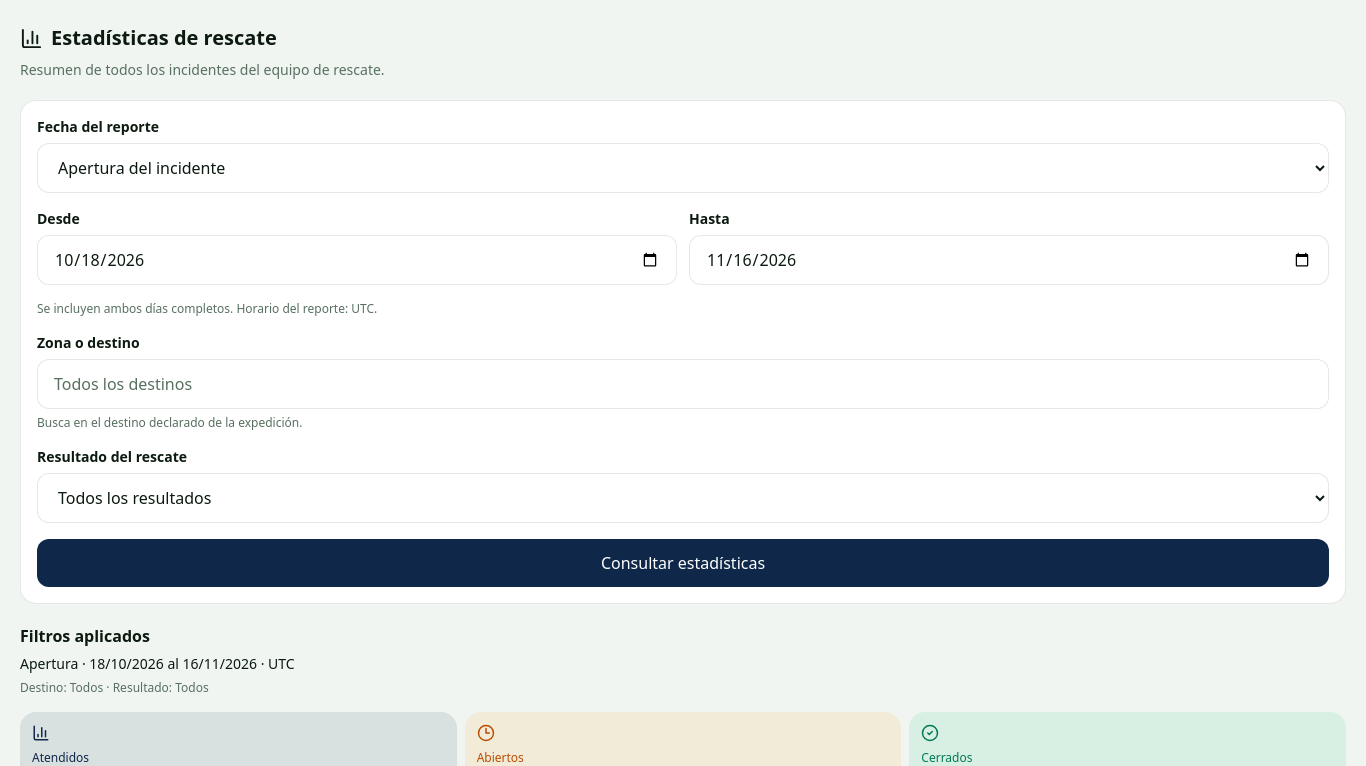
Test: HU-47: pantalla de estadísticas › una respuesta tardía no reemplaza los filtros ni conteos de una consulta más reciente
Step 1. Type "Lenta" into the search field labelled "Zona o destino" → [683, 384], box [37,359,1329,409]
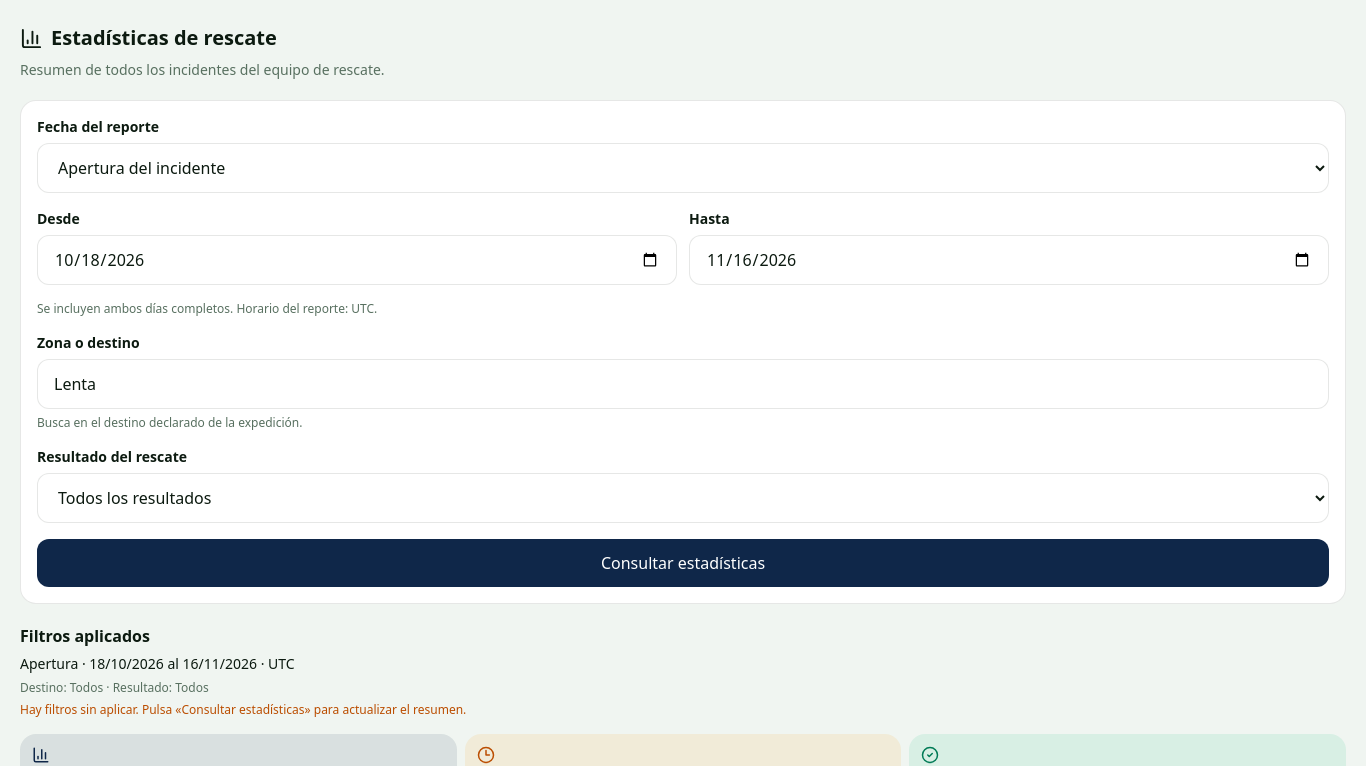
Step 2. Submit the form
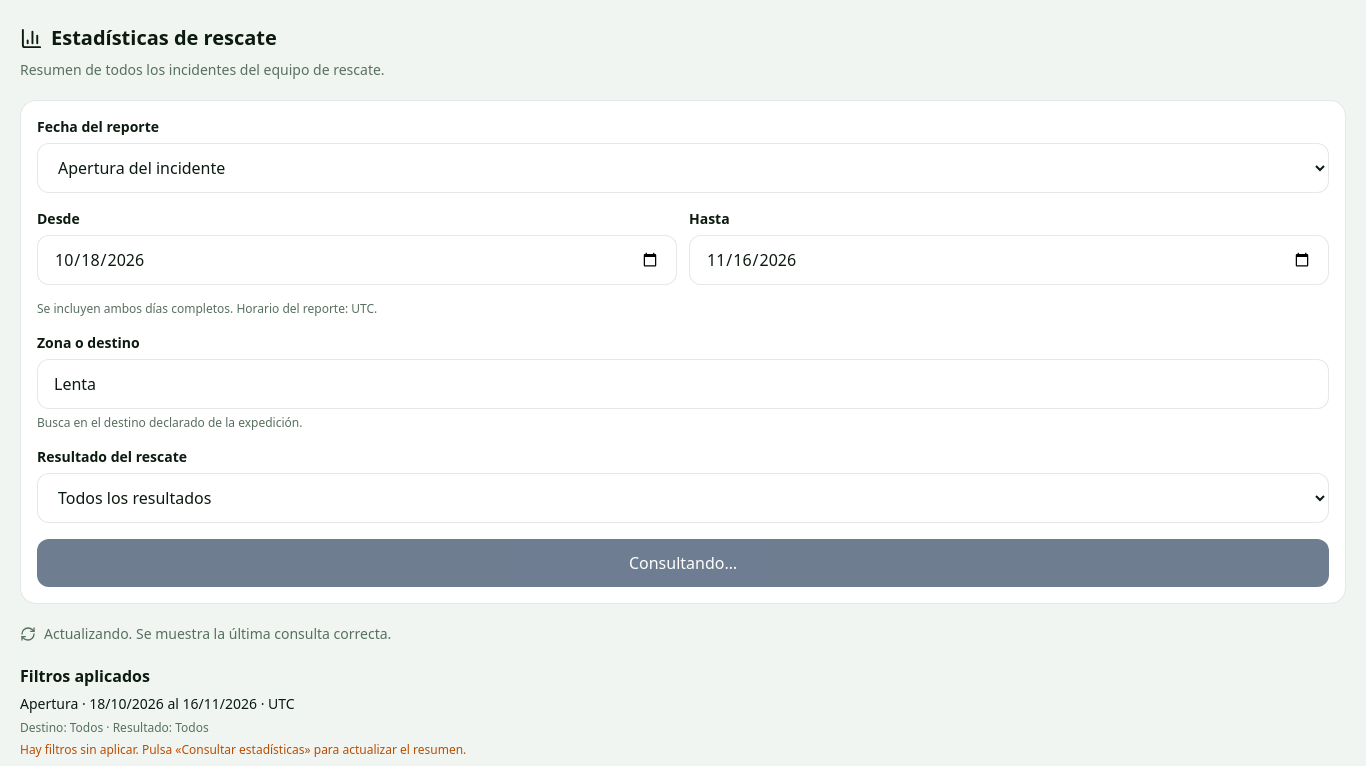
Step 3. Replace the text in the search field labelled "Zona o destino" with "Reciente" → [683, 384], box [37,359,1329,409]
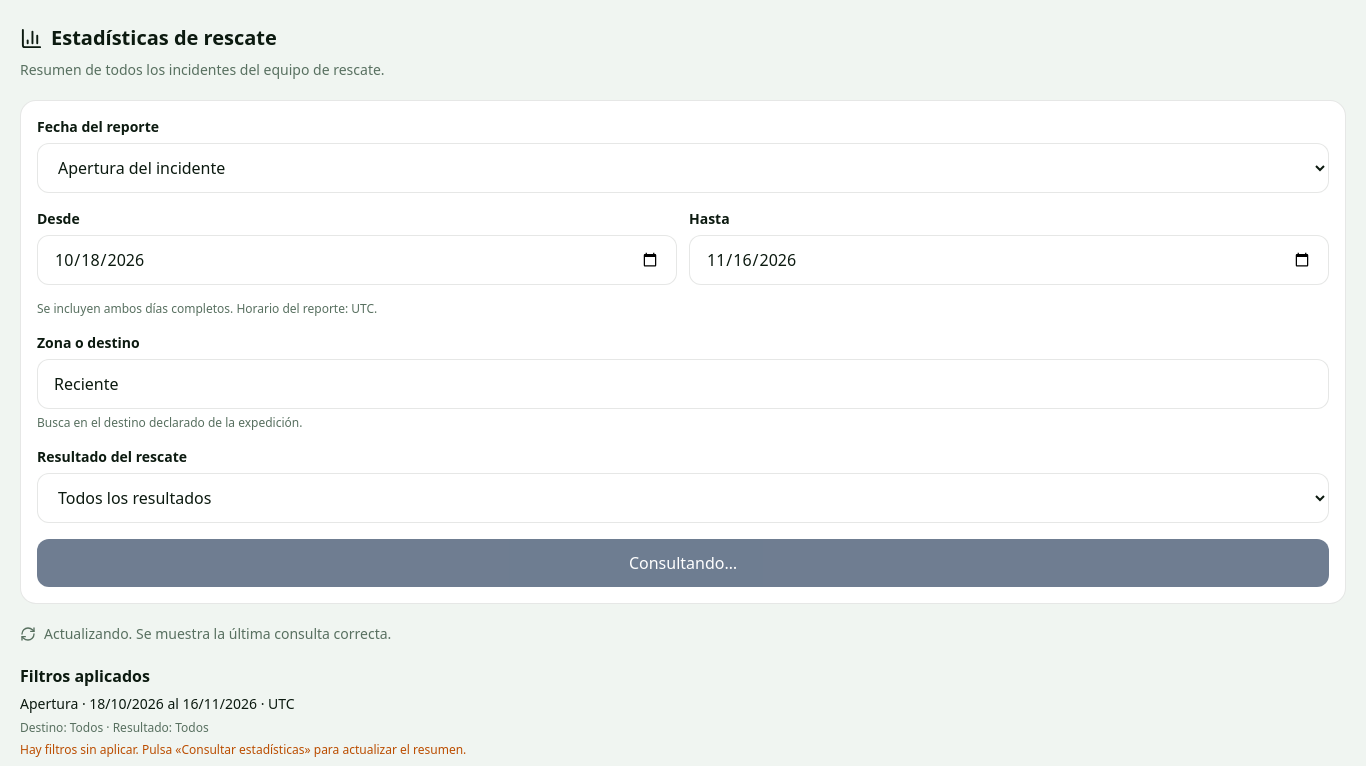
Step 4. Submit the form
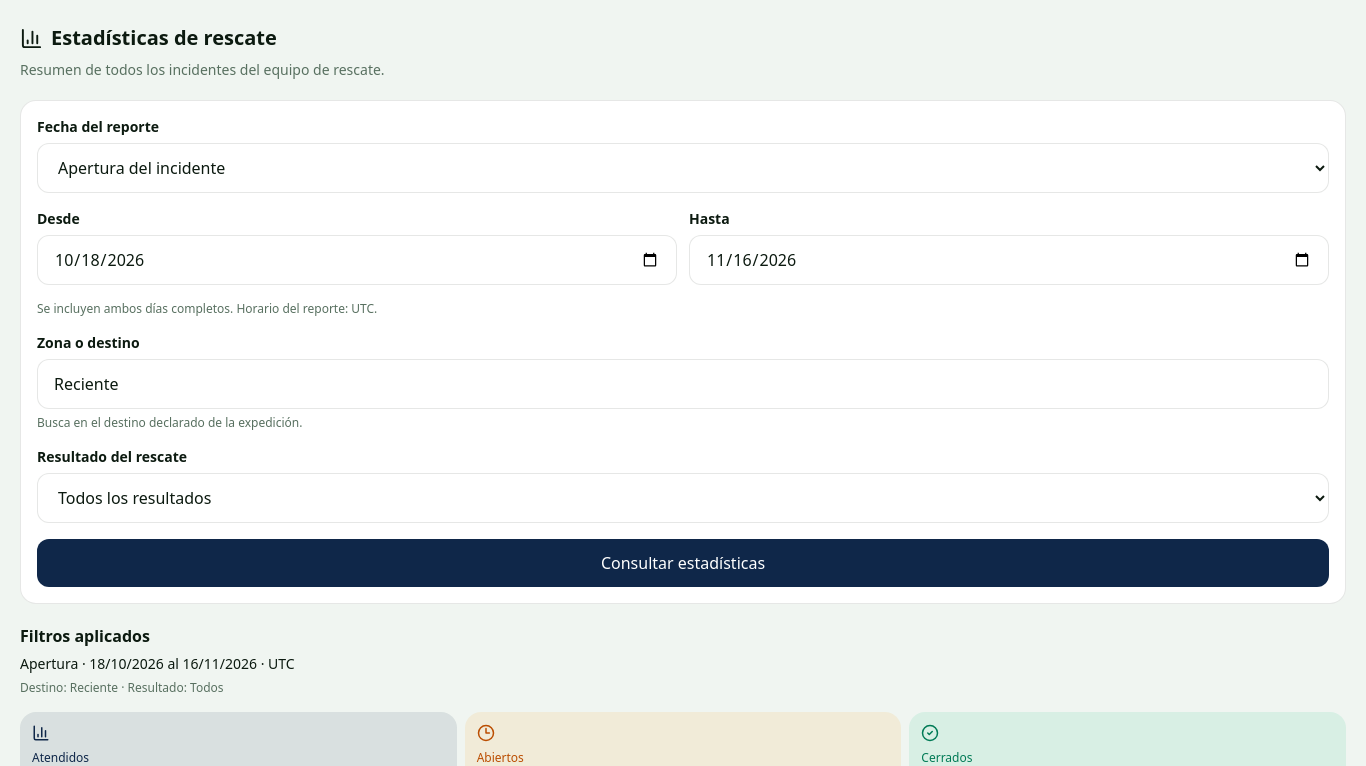
Expected: the text "Destino: Reciente" is shown, [20,679,224,696]
